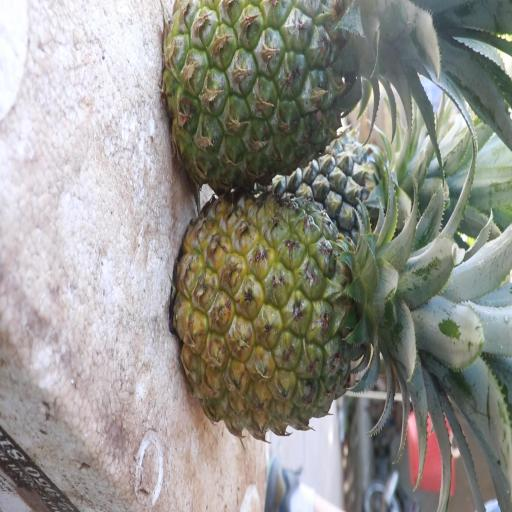------------------------------: (164, 0, 400, 188)
Pineapple - v8 v1: (174, 202, 416, 447)
